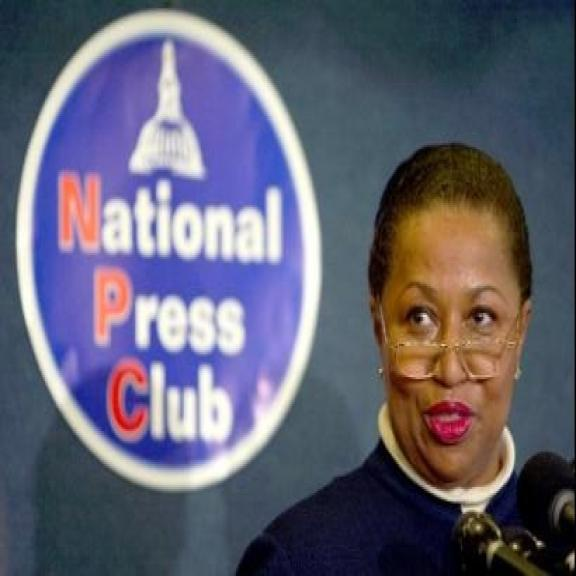face: (372, 210, 533, 478)
